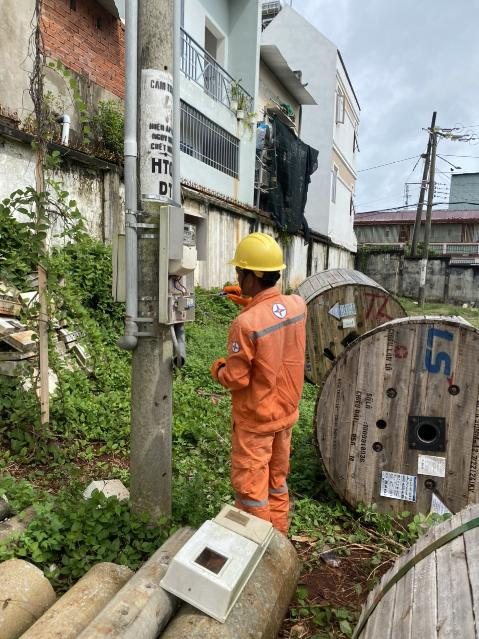gloves: (218, 276, 253, 314), (205, 353, 229, 383)
helmet: (221, 225, 295, 280)
